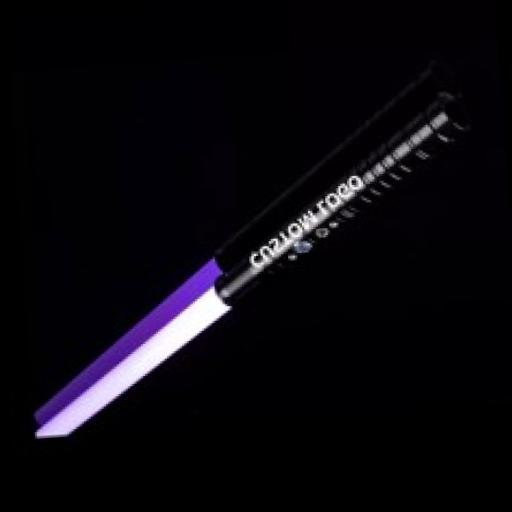lightsaber: (9, 84, 492, 438)
